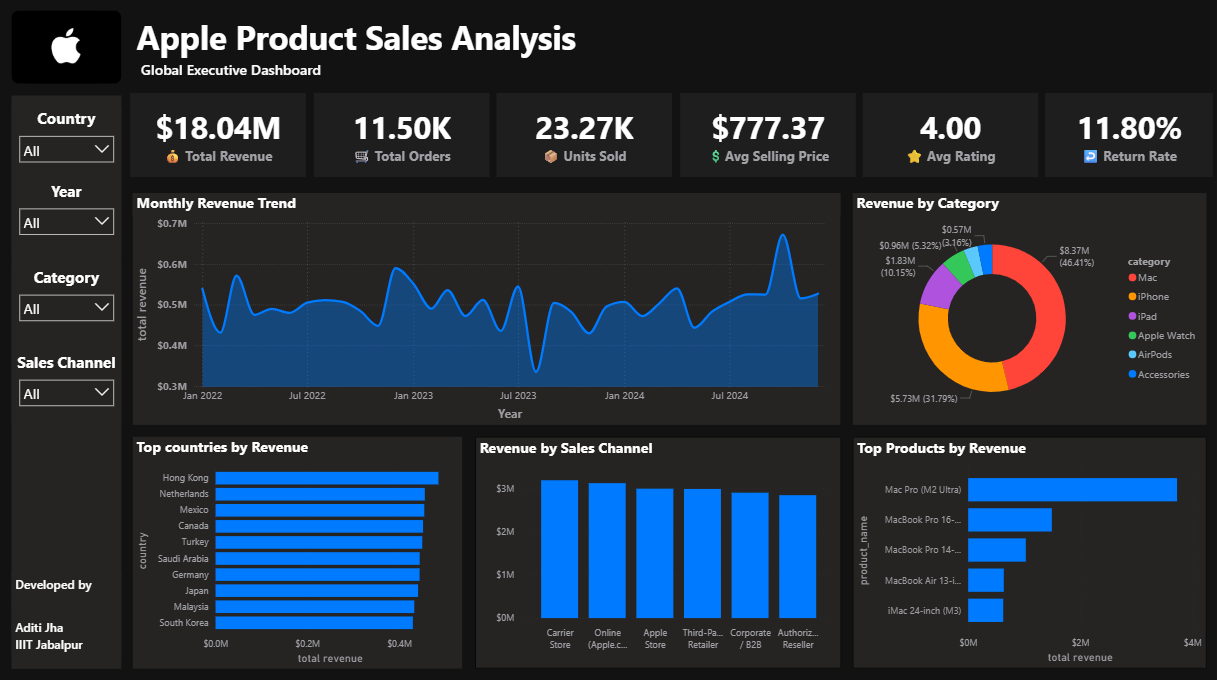

Layout of this report page (visuals, bound fields, positions):
{"tool":"powerbi","page":{"name":"Executive Overview","canvas":[1600,900],"ordinal":0},"visuals":[{"type":"textbox","box":[176,16,672,112],"z":0},{"type":"cardVisual","title":"💰 Total Revenue","fields":{"Data":["sales.total revenue"]},"box":[168,120,240,120],"z":1000},{"type":"cardVisual","fields":{"Data":["sales.total transactions"]},"box":[408,120,240,120],"z":2000},{"type":"cardVisual","fields":{"Data":["sales.total units sold"]},"box":[648,120,240,120],"z":3000},{"type":"cardVisual","fields":{"Data":["sales.average selling price"]},"box":[888,120,240,120],"z":4000},{"type":"cardVisual","fields":{"Data":["sales.average rating"]},"box":[1128,120,240,120],"z":5000},{"type":"cardVisual","fields":{"Data":["sales.return rate"]},"box":[1368,120,230,120],"z":6000},{"type":"lineChart","title":"Monthly Revenue Trend","fields":{"Y":["sales.total revenue"],"Category":["sales.sale_date.Variation.Date Hierarchy.Year","sales.sale_date.Variation.Date Hierarchy.Quarter","sales.sale_date.Variation.Date Hierarchy.Month"]},"box":[176,256,928,304],"z":7000},{"type":"clusteredBarChart","title":"Top countries by Revenue","fields":{"Category":["sales.country"],"Y":["sales.total revenue"]},"box":[176,576,432,304],"z":8000},{"type":"donutChart","title":"Revenue by Category","fields":{"Category":["sales.category"],"Y":["sales.total revenue"]},"box":[1120,256,464,304],"z":9000},{"type":"barChart","title":"Top Products by Revenue","fields":{"Category":["sales.product_name"],"Y":["sales.total revenue"]},"box":[1120,576,464,304],"z":10000},{"type":"textbox","box":[16,128,144,752],"z":11000},{"type":"image","box":[16,16,144,96],"z":12000},{"type":"clusteredColumnChart","title":"Revenue by Sales Channel","fields":{"Category":["sales.sales_channel"],"Y":["sales.total revenue"]},"box":[624,576,480,304],"z":13000},{"type":"slicer","title":"Country","fields":{"Values":["sales.country"]},"box":[16,144,144,96],"z":14000},{"type":"slicer","title":"Year","fields":{"Values":["sales.sale_date.Variation.Date Hierarchy.Year"]},"box":[16,240,144,96],"z":15000},{"type":"slicer","title":"Category","fields":{"Values":["sales.category"]},"box":[16,352,144,112],"z":16000},{"type":"slicer","title":"Sales Channel","fields":{"Values":["sales.sales_channel"]},"box":[16,464,144,96],"z":17000},{"type":"textbox","box":[16,752,144,112],"z":18000}]}

Visuals, with their boxes in screenshot pixels (x1, y1, x2, y2), scaled from the page's 1600x900 canvas onto the 1217x680 screenshot:
textbox: [x1=134, y1=12, x2=645, y2=97]
"💰 Total Revenue" cardVisual: [x1=128, y1=91, x2=310, y2=181]
cardVisual - sales.total transactions: [x1=310, y1=91, x2=493, y2=181]
cardVisual - sales.total units sold: [x1=493, y1=91, x2=675, y2=181]
cardVisual - sales.average selling price: [x1=675, y1=91, x2=858, y2=181]
cardVisual - sales.average rating: [x1=858, y1=91, x2=1041, y2=181]
cardVisual - sales.return rate: [x1=1041, y1=91, x2=1215, y2=181]
"Monthly Revenue Trend" lineChart: [x1=134, y1=193, x2=840, y2=423]
"Top countries by Revenue" clusteredBarChart: [x1=134, y1=435, x2=462, y2=665]
"Revenue by Category" donutChart: [x1=852, y1=193, x2=1205, y2=423]
"Top Products by Revenue" barChart: [x1=852, y1=435, x2=1205, y2=665]
textbox: [x1=12, y1=97, x2=122, y2=665]
image: [x1=12, y1=12, x2=122, y2=85]
"Revenue by Sales Channel" clusteredColumnChart: [x1=475, y1=435, x2=840, y2=665]
"Country" slicer: [x1=12, y1=109, x2=122, y2=181]
"Year" slicer: [x1=12, y1=181, x2=122, y2=254]
"Category" slicer: [x1=12, y1=266, x2=122, y2=351]
"Sales Channel" slicer: [x1=12, y1=351, x2=122, y2=423]
textbox: [x1=12, y1=568, x2=122, y2=653]
